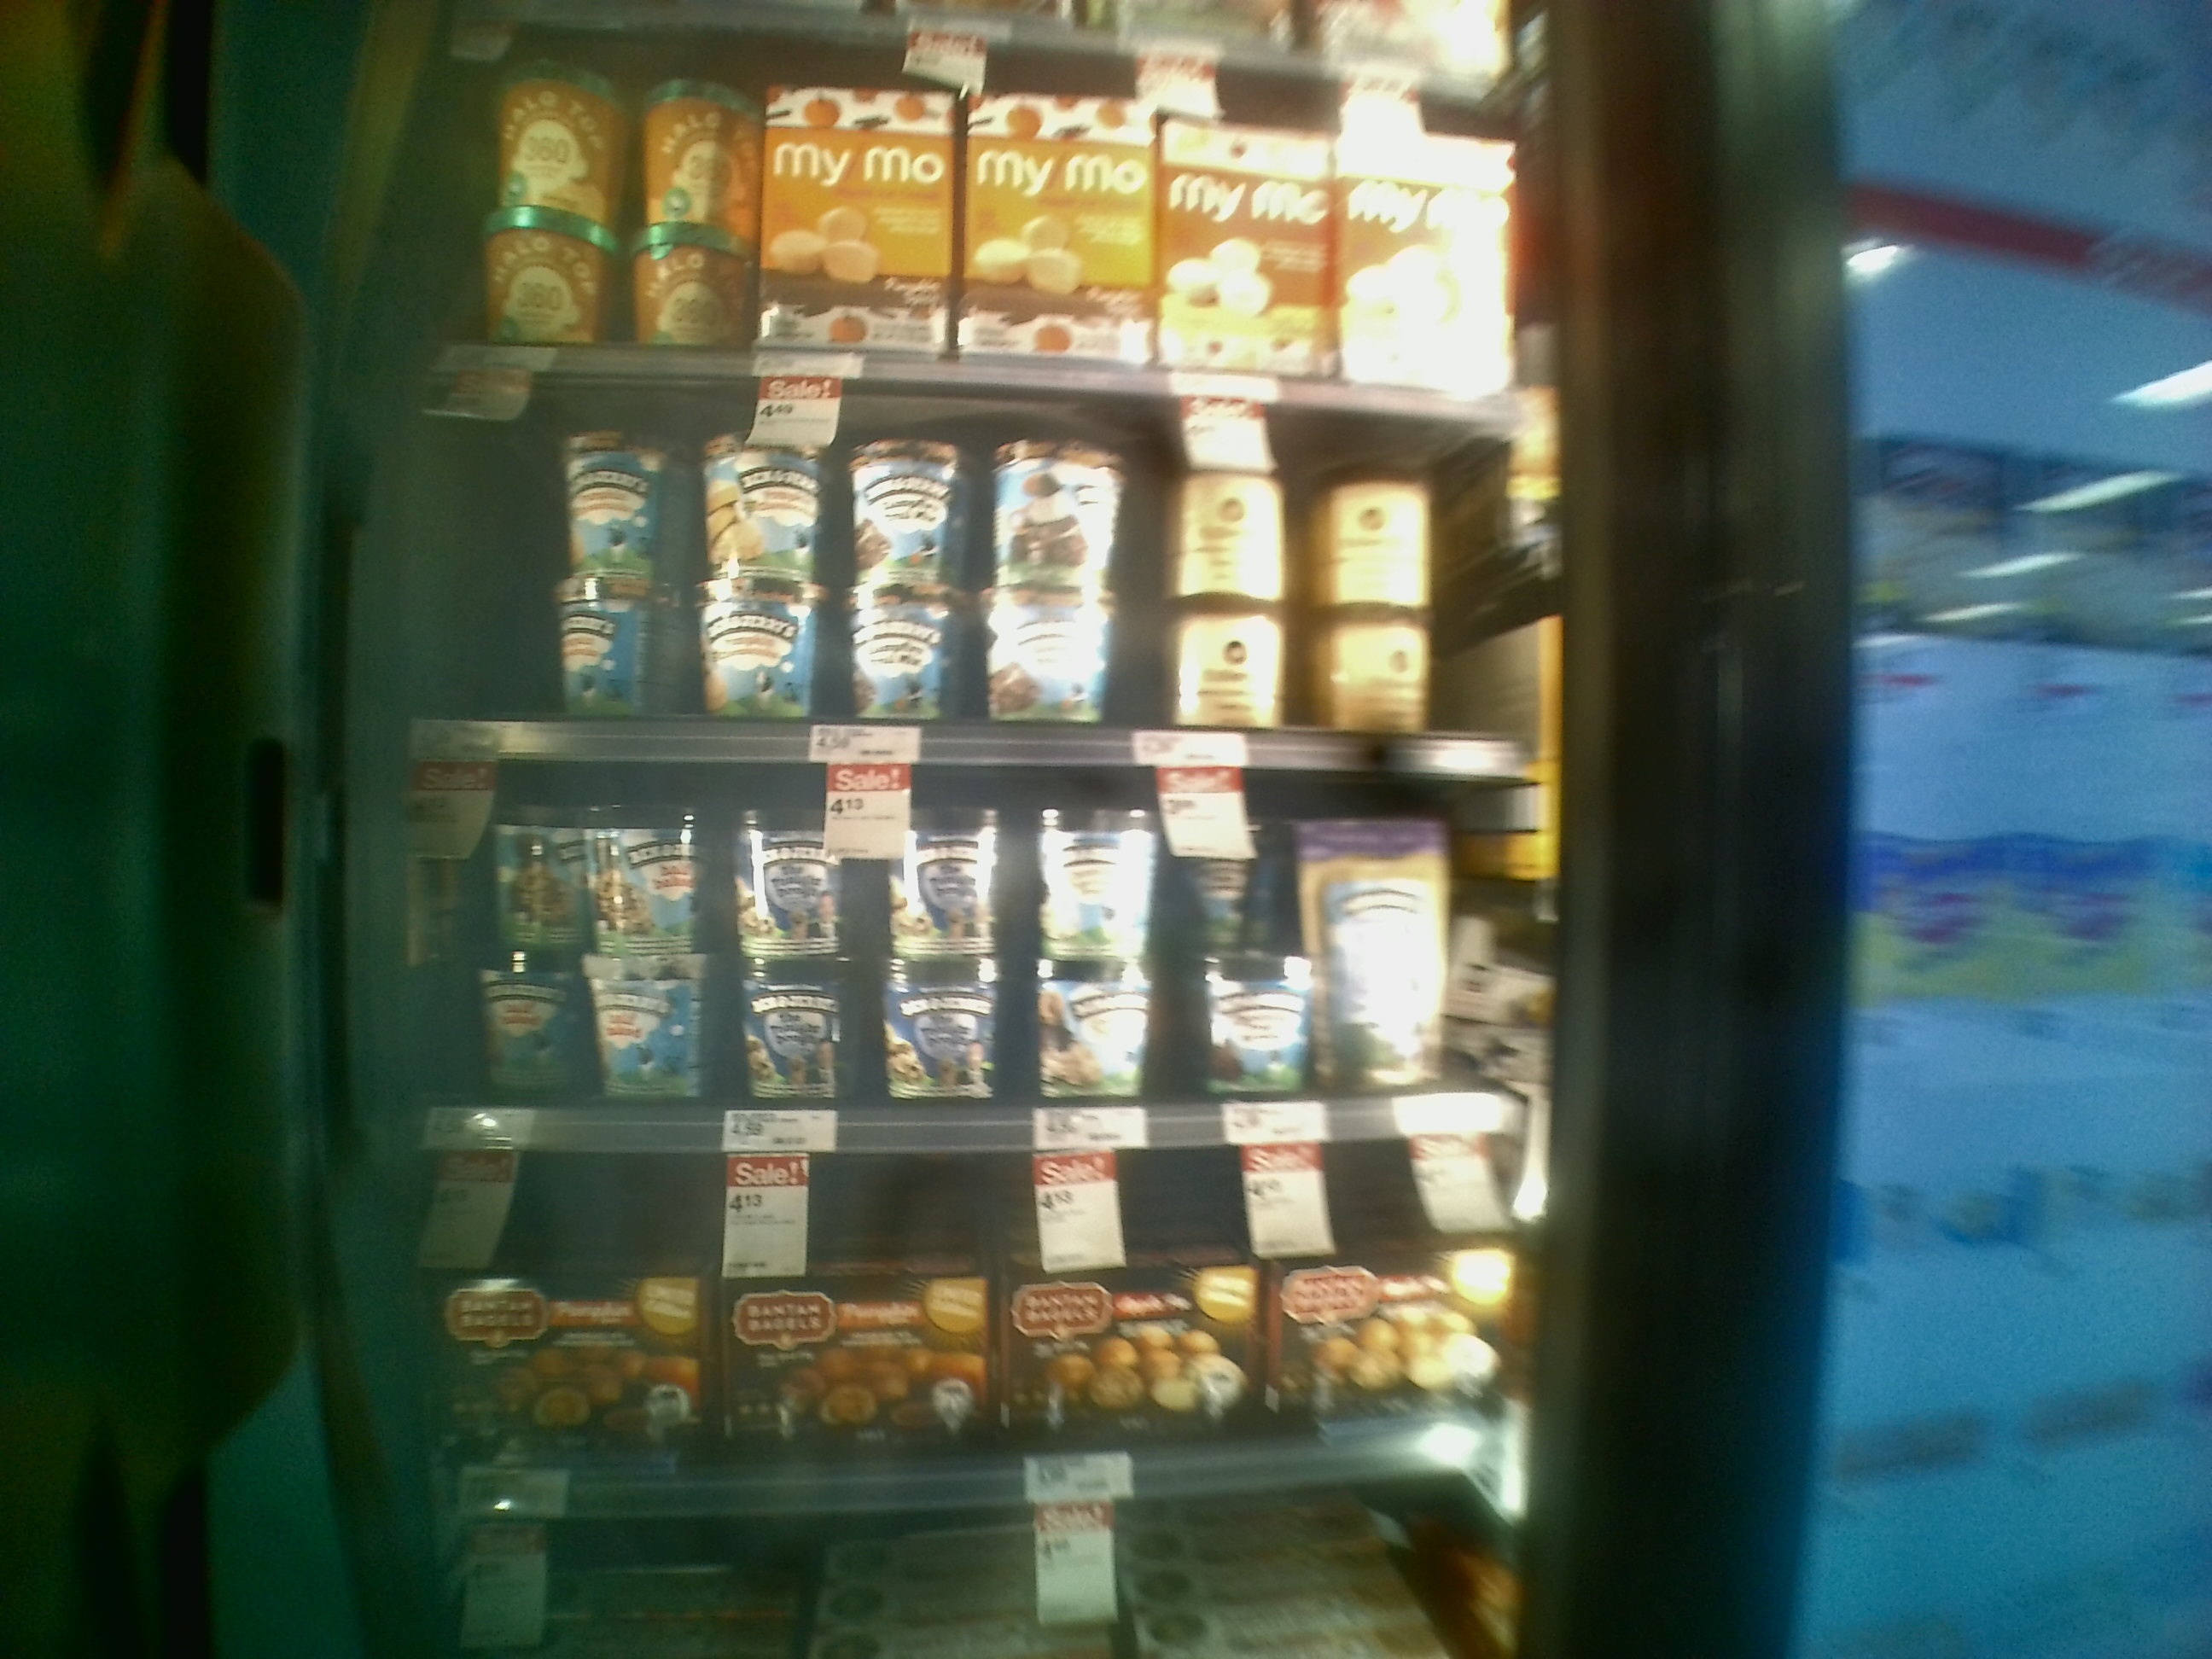shelf: (369, 373, 1597, 781), (345, 755, 1575, 1145), (341, 1143, 1564, 1476)
